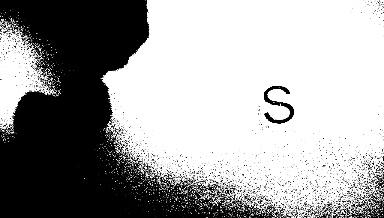S: (254, 82, 299, 126)
